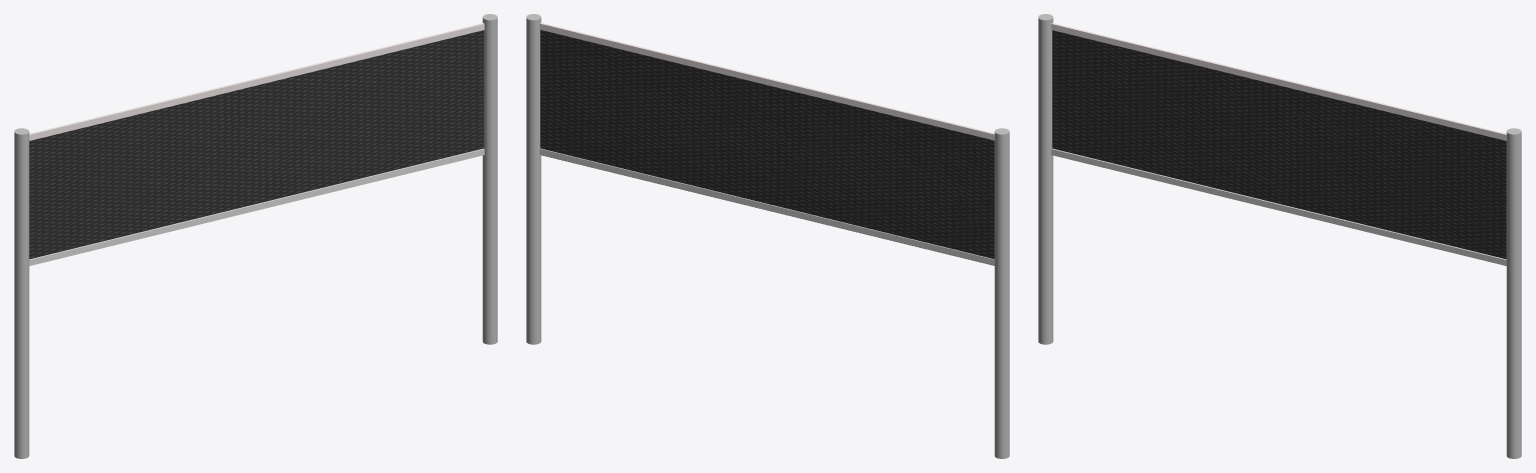
Rendered from Net.fbx.
3 views of the same model, side by side, from view 1: azimuth 30°, elevation 25°; view 2: azimuth 150°, elevation 25°; view 3: azimuth 330°, elevation 25° (orthographic).
Visible parts, largest first — view 1: Plane, Plane.001, Cylinder, Cylinder.001, Cube, Cube.001; view 2: Plane.001, Plane, Cylinder, Cylinder.001, Cube, Cube.001; view 3: Plane.001, Plane, Cylinder.001, Cylinder, Cube, Cube.001.
Boxes of the visible parts, <box> form: Plane: <box>210,30,483,199</box>; Plane.001: <box>29,87,292,259</box>; Cylinder: <box>14,128,29,458</box>; Cylinder.001: <box>482,14,497,344</box>; Cube: <box>29,23,484,140</box>; Cube.001: <box>29,148,484,265</box>; Plane.001: <box>540,30,789,207</box>; Plane: <box>746,83,994,265</box>; Cylinder: <box>994,128,1009,458</box>; Cylinder.001: <box>526,14,541,344</box>; Cube: <box>539,22,994,140</box>; Cube.001: <box>539,148,994,265</box>; Plane.001: <box>1052,30,1324,214</box>; Plane: <box>1248,80,1506,259</box>; Cylinder.001: <box>1506,128,1521,458</box>; Cylinder: <box>1038,14,1053,344</box>; Cube: <box>1051,23,1506,140</box>; Cube.001: <box>1051,148,1506,265</box>.
Bounding box in the file's own units: 924 × 595 × 24.93.
